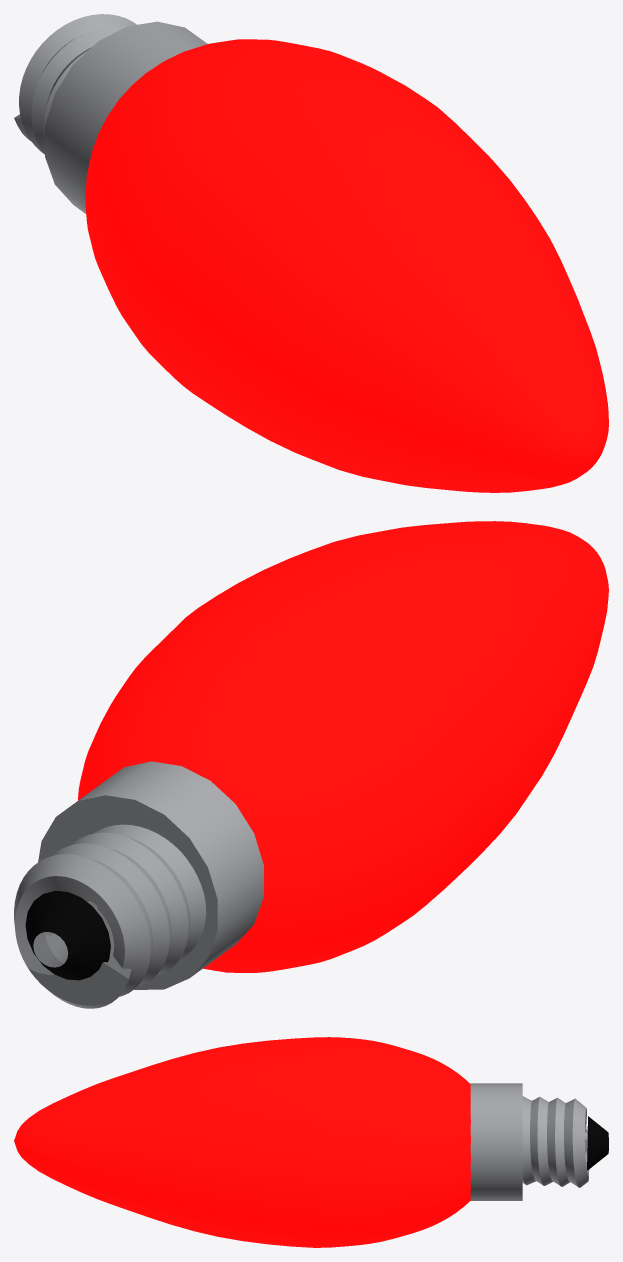
The model's file is AltarLamp.fbx.
The picture shows the model from 3 angles, top to bottom: view 1: azimuth 30°, elevation 25°; view 2: azimuth 150°, elevation 25°; view 3: azimuth 270°, elevation 25°; orthographic projection. The views are drawn at different scales.
Visible parts, largest first — view 1: polySurface4; view 2: polySurface4; view 3: polySurface4.
Part boxes in pixels (x1=…): polySurface4: x1=14, y1=14, x2=608, y2=492; polySurface4: x1=14, y1=521, x2=608, y2=1008; polySurface4: x1=14, y1=1037, x2=608, y2=1247.
Bounding box in the file's own units: 350 × 350 × 987.
